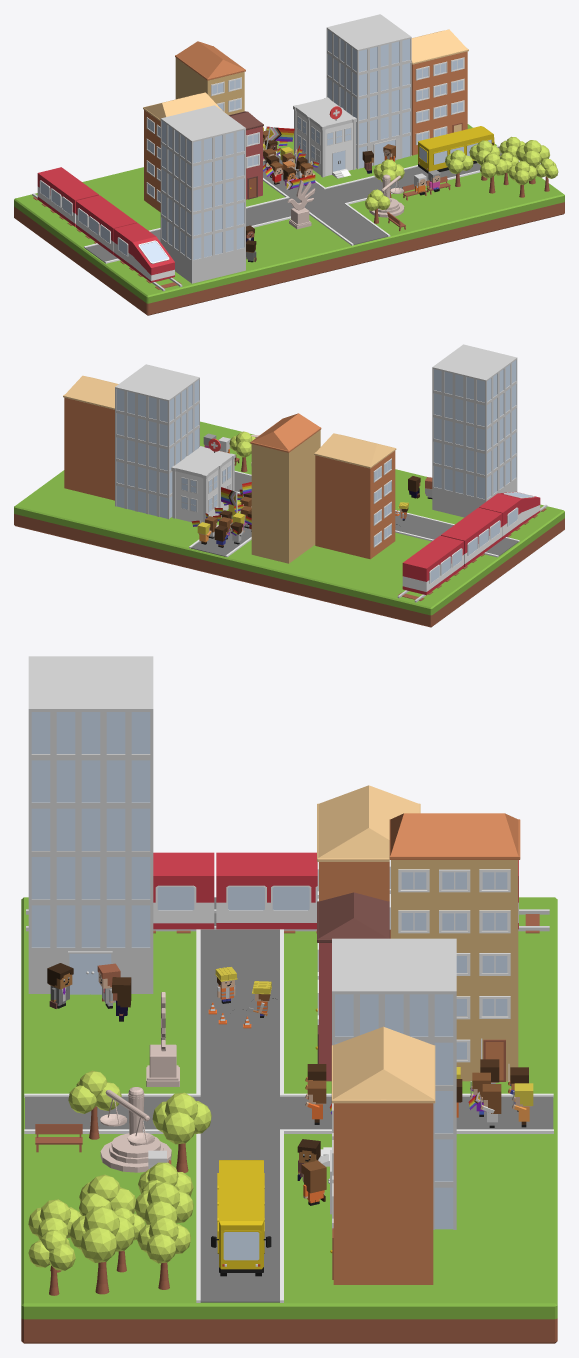
Rendered from ground11.glb.
The picture shows the model from 3 angles, top to bottom: view 1: azimuth 30°, elevation 25°; view 2: azimuth 150°, elevation 25°; view 3: azimuth 270°, elevation 25°; orthographic projection. The views are drawn at different scales.
Visible parts, largest first — view 1: Cube, Migranten, Löhne, Haus, Zug, Straße, Haus2, Park, Arzt, Parade, Bus, Menschenrechte (+1 smaller); view 2: Cube, Haus, Migranten, Löhne, Zug, Haus2, Arzt, Straße, Parade, Park; view 3: Cube, Migranten, Haus, Straße, Haus2, Löhne, Park, Zug, Bus, Parade, Waage, Menschenrechte (+1 smaller).
Boxes of the visible parts, box(x1,y1,x2,y2) form: Cube: box(14, 124, 564, 315); Migranten: box(160, 105, 256, 283); Löhne: box(326, 14, 411, 173); Haus: box(143, 41, 263, 212); Zug: box(32, 167, 182, 291); Straße: box(84, 145, 519, 263); Haus2: box(411, 29, 468, 155); Park: box(365, 136, 558, 231); Arzt: box(293, 97, 356, 178); Parade: box(263, 126, 318, 189); Bus: box(418, 126, 494, 173); Menschenrechte: box(287, 180, 315, 229); Cube: box(14, 421, 564, 627); Haus: box(250, 413, 396, 563); Migranten: box(408, 344, 517, 517); Löhne: box(115, 364, 199, 519); Zug: box(397, 491, 547, 602); Haus2: box(63, 375, 118, 500); Arzt: box(171, 438, 235, 522); Straße: box(189, 471, 519, 557); Parade: box(191, 482, 251, 547); Park: box(203, 431, 255, 472); Cube: box(21, 897, 557, 1343); Migranten: box(28, 656, 153, 1021); Haus: box(315, 785, 520, 1081); Straße: box(24, 897, 553, 1302); Haus2: box(330, 1026, 435, 1284); Löhne: box(297, 938, 456, 1229); Park: box(28, 1070, 211, 1295); Zug: box(26, 852, 549, 933); Bus: box(211, 1160, 271, 1276); Parade: box(305, 1038, 533, 1127); Waage: box(100, 1087, 171, 1172); Menschenrechte: box(146, 992, 179, 1086).
Bounding box in the file's own units: 3.63 × 1.34 × 2.
